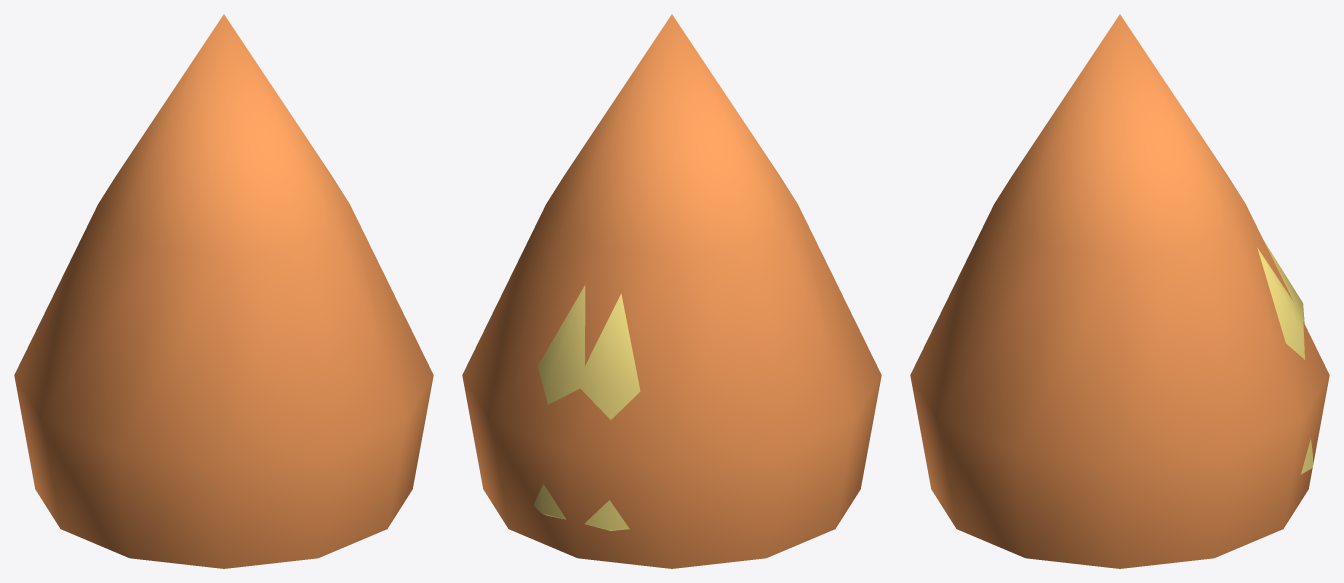
The model's file is FlamethrowerShard.fbx.
3 renders of one model, left to right at view 1: azimuth 30°, elevation 25°; view 2: azimuth 150°, elevation 25°; view 3: azimuth 270°, elevation 25°, orthographic.
Visible parts, largest first — view 1: fire_small; view 2: fire_small; view 3: fire_small.
Part boxes in pixels (x1,y1,x2,y2): fire_small: (14, 14, 433, 568); fire_small: (462, 14, 881, 568); fire_small: (910, 14, 1329, 568).
Bounding box in the file's own units: 0.18 × 0.261 × 0.18.
